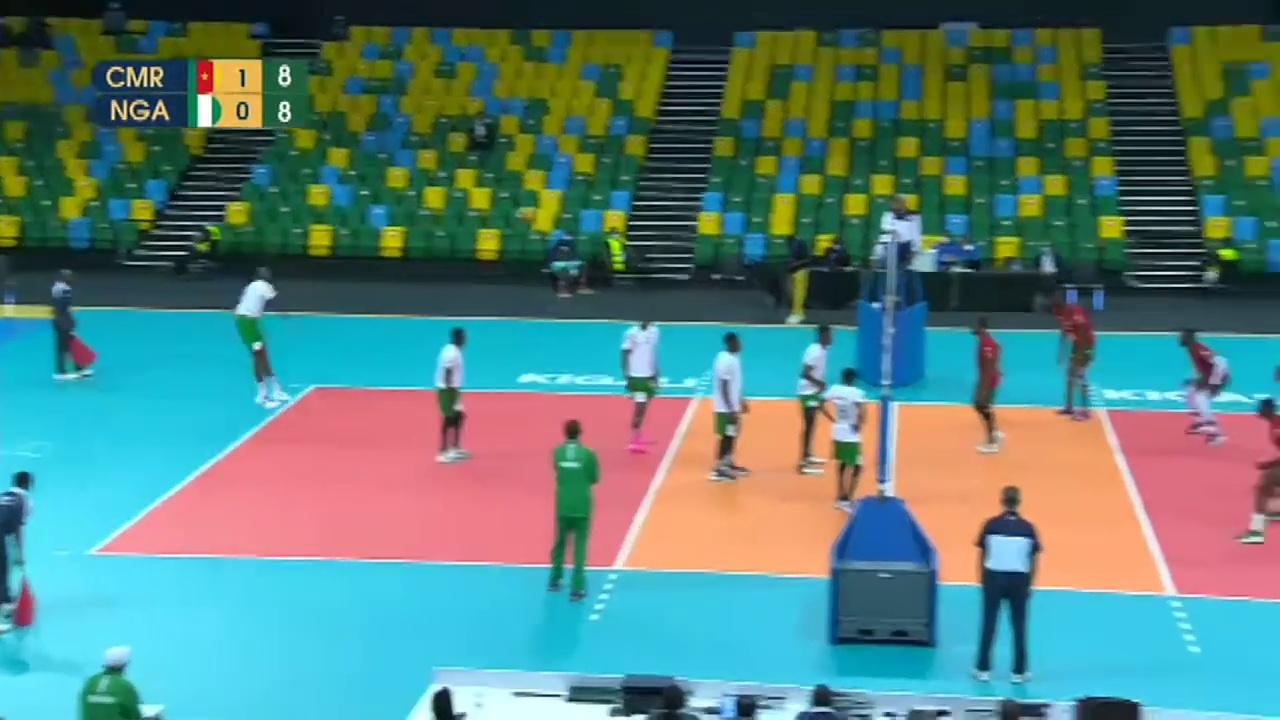player: (235, 267, 289, 404), (1046, 294, 1102, 421), (709, 326, 753, 479), (826, 364, 870, 514), (792, 327, 836, 472), (621, 323, 664, 449), (1180, 331, 1231, 437), (1244, 401, 1280, 545), (968, 319, 1006, 450), (431, 328, 468, 462)
refree: (971, 484, 1049, 684), (0, 456, 41, 628), (867, 186, 925, 305), (47, 269, 90, 376)
